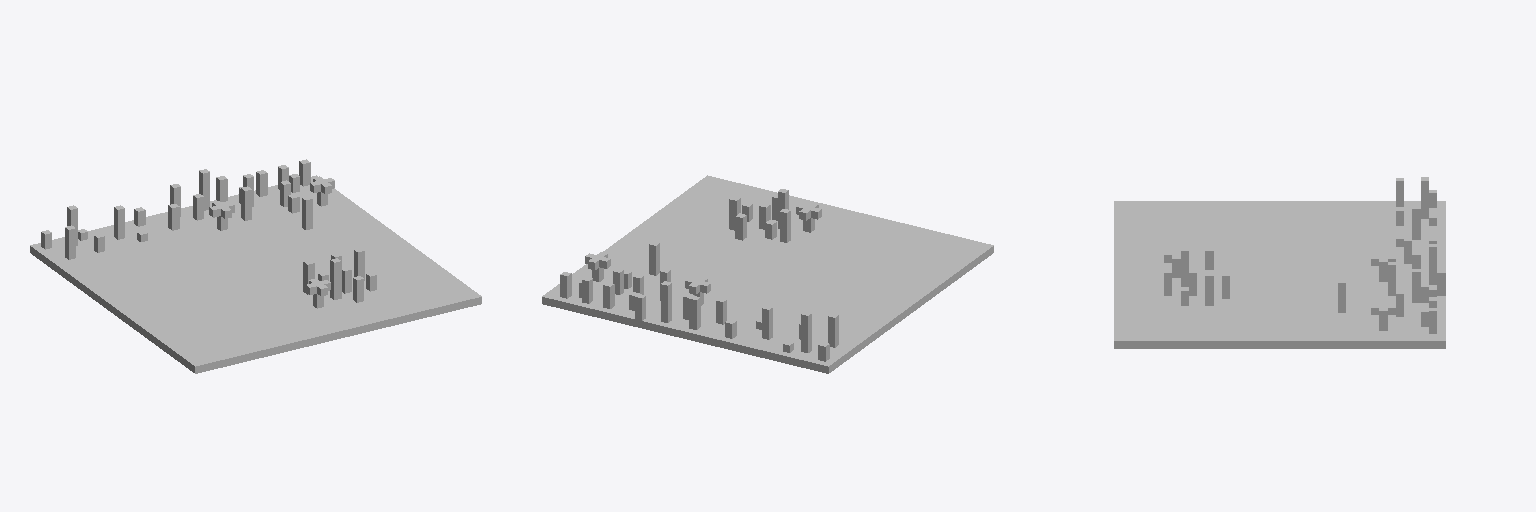
The model's file is grass2.obj.
The picture shows the model from 3 angles: view 1: azimuth 30°, elevation 25°; view 2: azimuth 150°, elevation 25°; view 3: azimuth 270°, elevation 25°; orthographic projection.
Visible parts, largest first — view 1: object 1; view 2: object 1; view 3: object 1.
Part boxes in pixels (x1,y1,x2,y2): object 1: (30, 159, 481, 373); object 1: (542, 175, 993, 373); object 1: (1114, 177, 1445, 348).
Size of the model in its own units: 4 by 0.6 by 4.